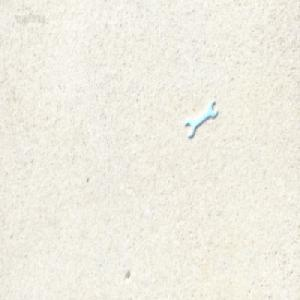Wrench: (185, 102, 216, 138)
